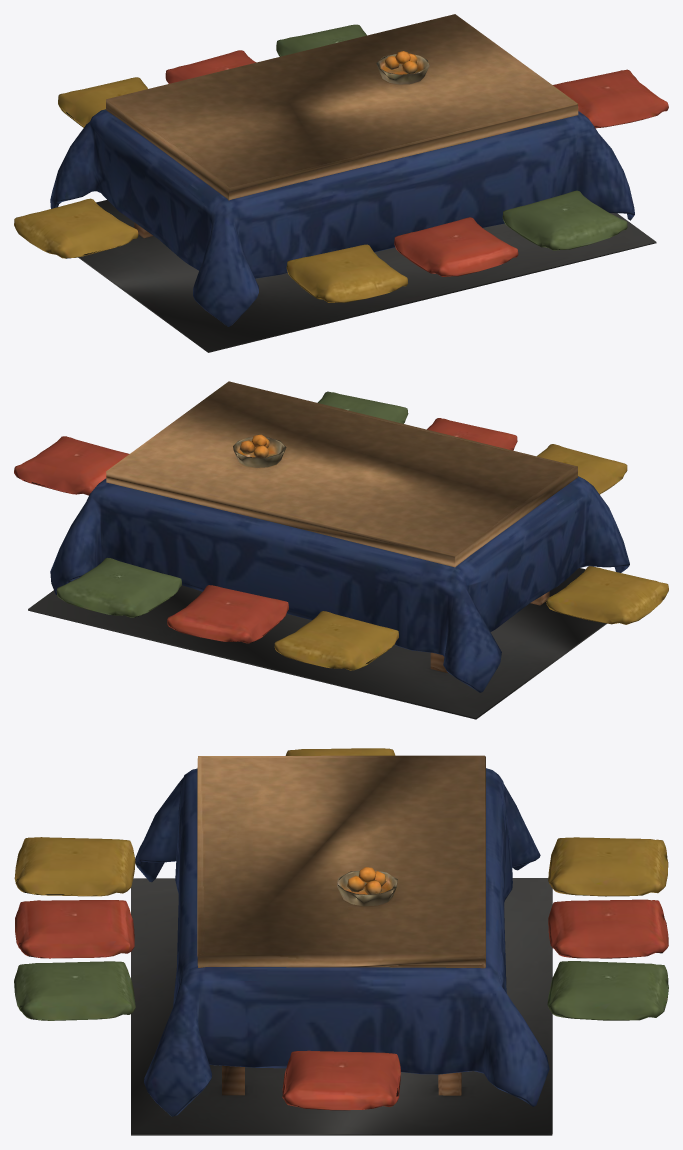
The model's file is kotatsu_lodge_indigo.glb.
The picture shows the model from 3 angles, top to bottom: view 1: azimuth 30°, elevation 25°; view 2: azimuth 150°, elevation 25°; view 3: azimuth 270°, elevation 25°; orthographic projection. The views are drawn at different scales.
Parts seen in each view (by area): view 1: prop_kotatsu_lodge_indigo_felt.001, prop_kotatsu_lodge_indigo_wood.001; view 2: prop_kotatsu_lodge_indigo_felt.001, prop_kotatsu_lodge_indigo_wood.001; view 3: prop_kotatsu_lodge_indigo_felt.001, prop_kotatsu_lodge_indigo_wood.001.
Boxes of the visible parts, box(x1,y1,x2,y2) form: prop_kotatsu_lodge_indigo_felt.001: box(14, 24, 668, 352); prop_kotatsu_lodge_indigo_wood.001: box(106, 14, 578, 238); prop_kotatsu_lodge_indigo_felt.001: box(14, 391, 668, 719); prop_kotatsu_lodge_indigo_wood.001: box(106, 381, 577, 672); prop_kotatsu_lodge_indigo_felt.001: box(14, 748, 668, 1135); prop_kotatsu_lodge_indigo_wood.001: box(197, 755, 485, 1095).
Bounding box in the file's own units: 4.15 × 0.9901 × 3.24.
3 materials, 3 textured.
